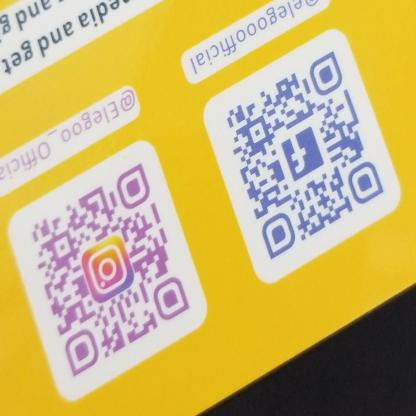qr: (221, 49, 386, 270), (28, 161, 195, 377)
